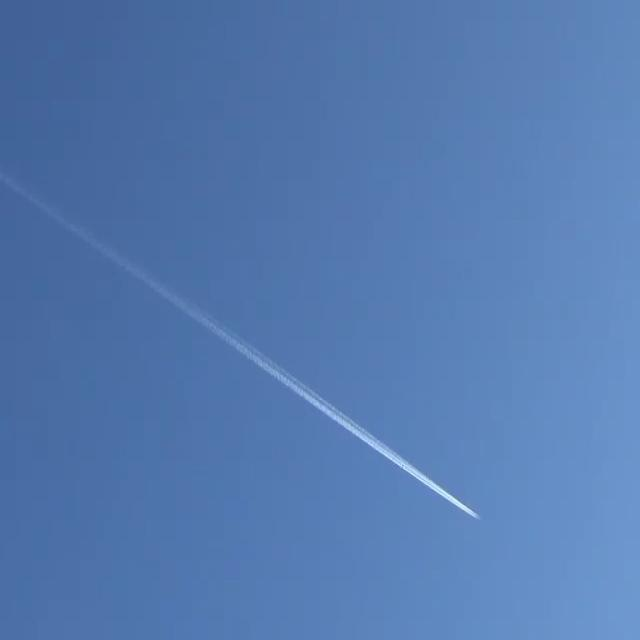AirPlane: (408, 453, 494, 533)
